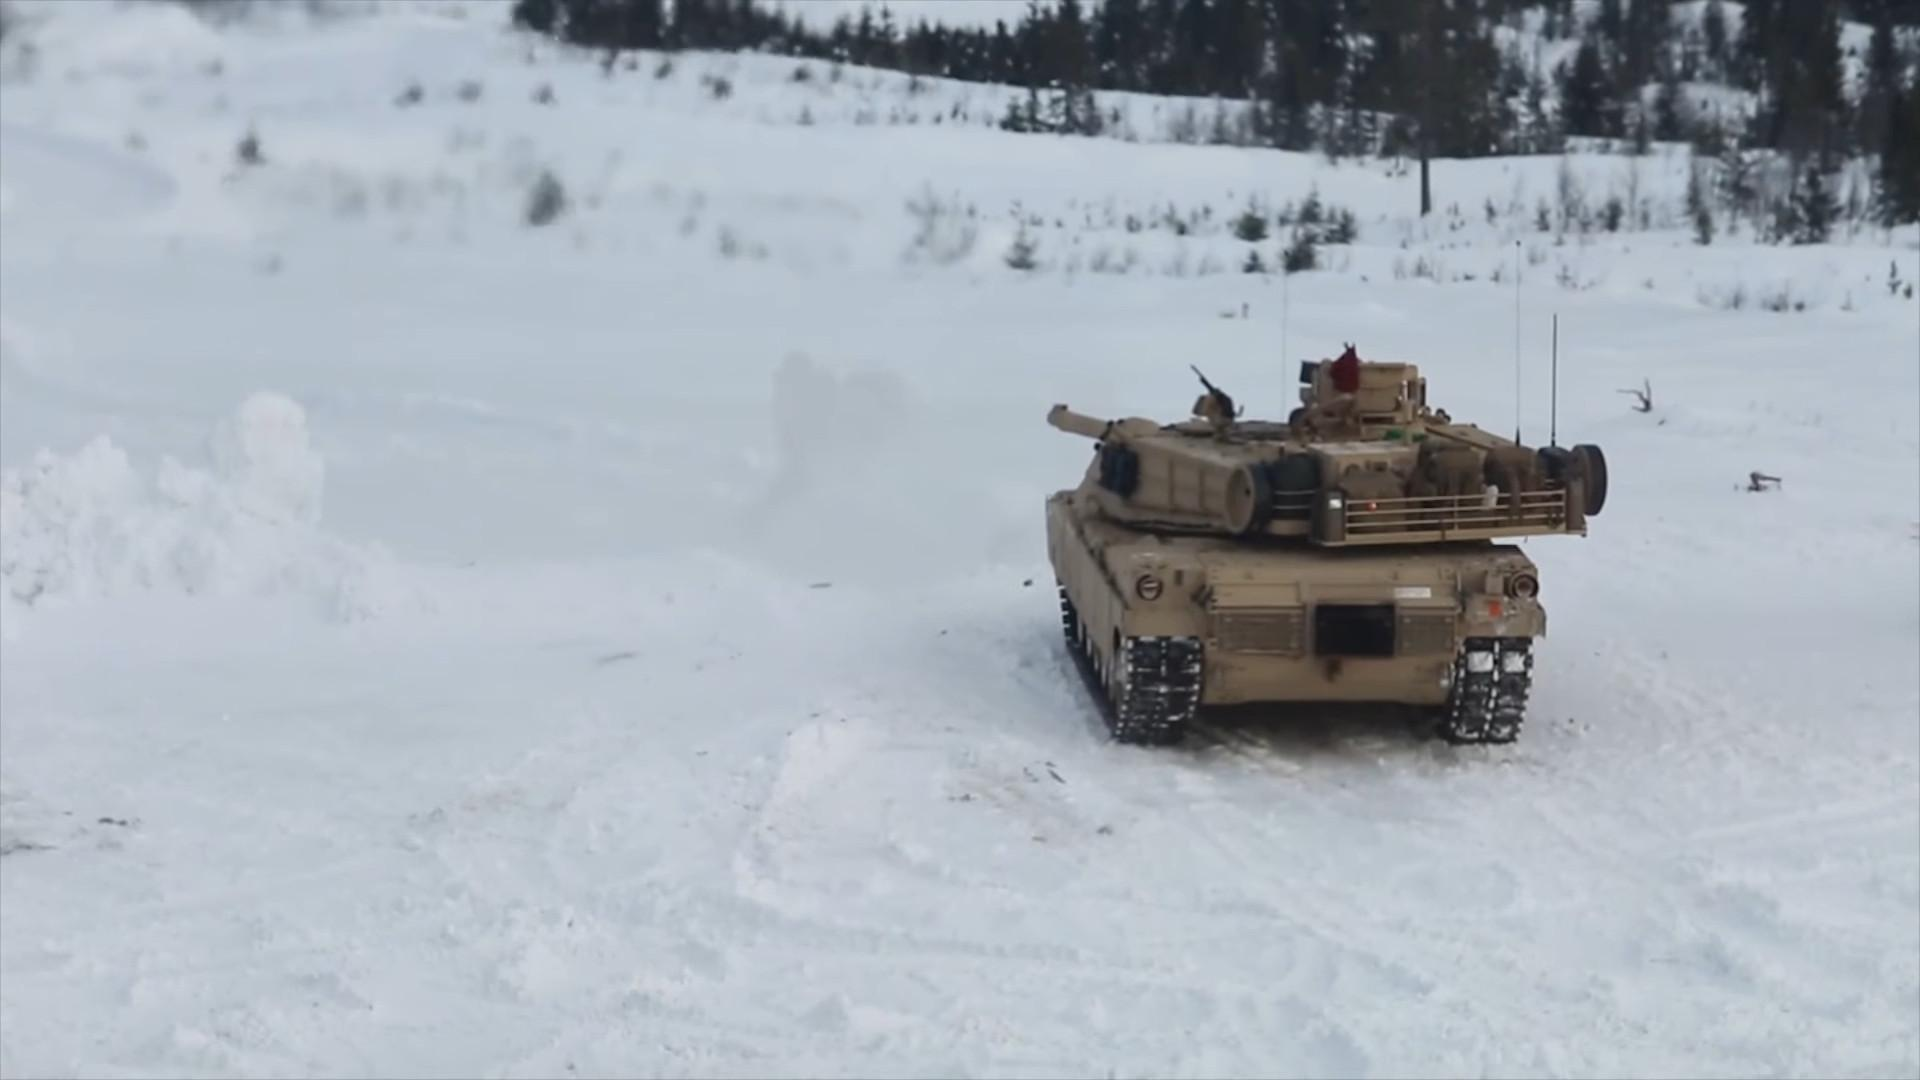tank: (1044, 360, 1607, 746)
